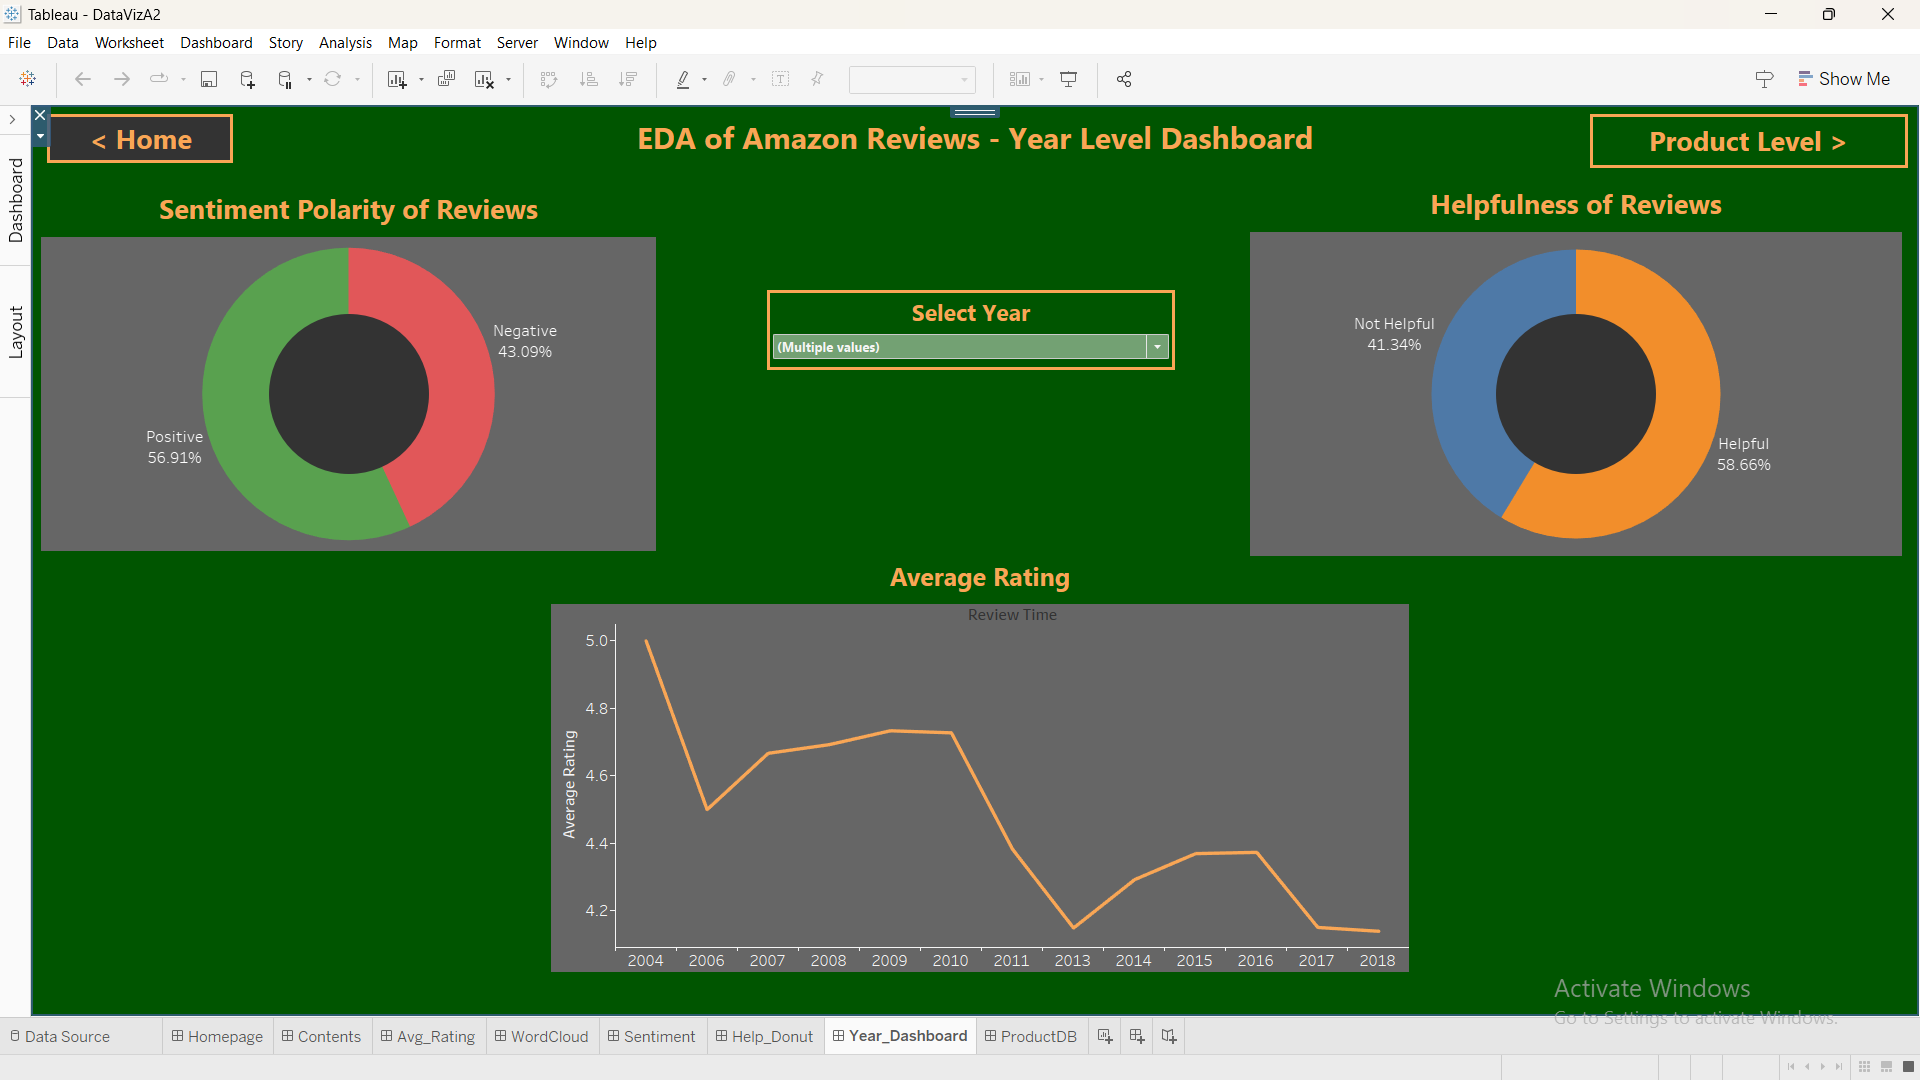

Layout of this report page (visuals, bound fields, positions):
{"tool":"tableau","page":{"name":"Year_Dashboard","canvas":[1000,1000],"units":"permille","ordinal":7},"visuals":[{"type":"title","box":[4.8,8.8,990.3,52.7]},{"type":"dashboard-object","box":[8.4,10.3,98.4,53.8]},{"type":"dashboard-object","box":[825.6,10.3,168.4,59.6]},{"type":"worksheet","title":"H_Donut","mark":"Automatic","rows":["Calculation_2162572248131313667","Calculation_2162572248131338245"],"box":[645.8,83.6,345.2,411.2]},{"type":"worksheet","title":"Sentiment_Donut","mark":"Automatic","rows":["Calculation_3184889362993233940","Calculation_3184889362993258518"],"box":[5.4,89.4,325.9,400.9]},{"type":"filter","title":"Average_Rating","param":"[federated.183v5at0gkhiho137irmq1ghh51z].[yr:reviewTime:ok]","box":[389.9,202.8,216.1,88.2]},{"type":"worksheet","title":"Average_Rating","mark":"Automatic","rows":["overall"],"cols":["reviewTime"],"box":[275.2,493.7,454.4,458.2]}]}

Visuals, with their boxes on the dashboard's canvas, which has no fixed pixel size, in thousandths of its width and height (x1, y1, x2, y2). These are canvas units, not pixel positions in the 1920x1080 screenshot, which may show the page scaled, cropped or inside an application window:
title: [x1=5, y1=9, x2=995, y2=62]
dashboard-object: [x1=8, y1=10, x2=107, y2=64]
dashboard-object: [x1=826, y1=10, x2=994, y2=70]
"H_Donut" worksheet: [x1=646, y1=84, x2=991, y2=495]
"Sentiment_Donut" worksheet: [x1=5, y1=89, x2=331, y2=490]
"Average_Rating" filter: [x1=390, y1=203, x2=606, y2=291]
"Average_Rating" worksheet: [x1=275, y1=494, x2=730, y2=952]
